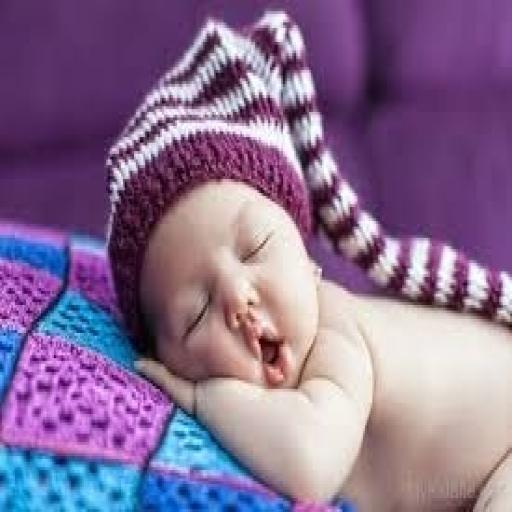sleeping: (103, 6, 510, 509)
